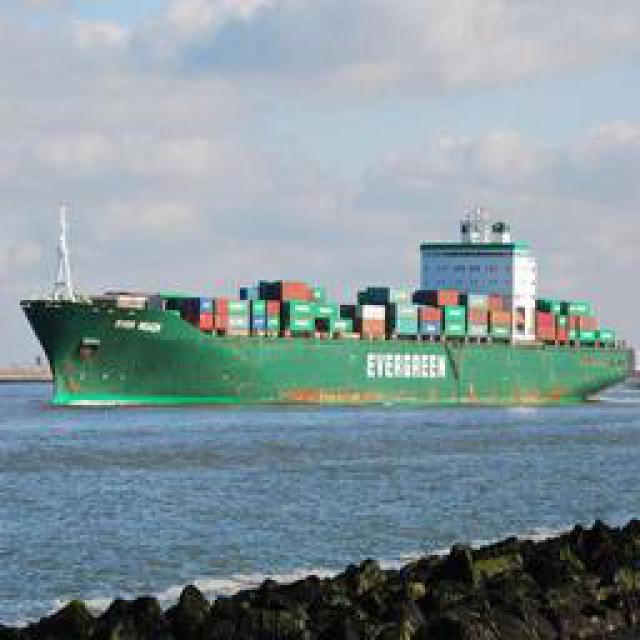Ship: (22, 202, 630, 415)
